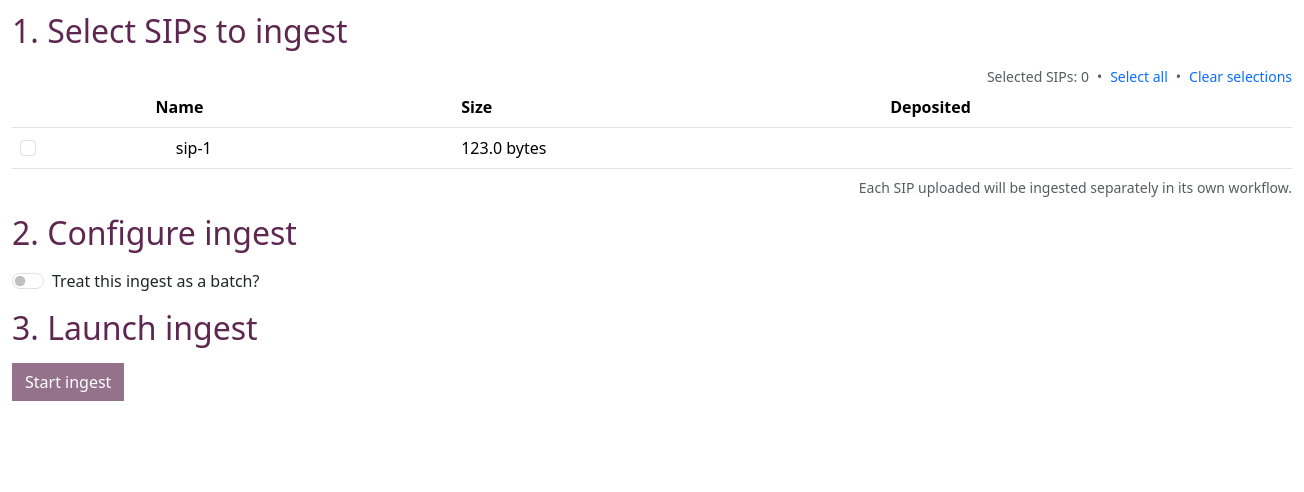
Test: SIPUploadSource.vue › shows an error when ingest fails
Click the checkbox with id "cb-sip-1" at [28, 148], box [20,140,36,156]
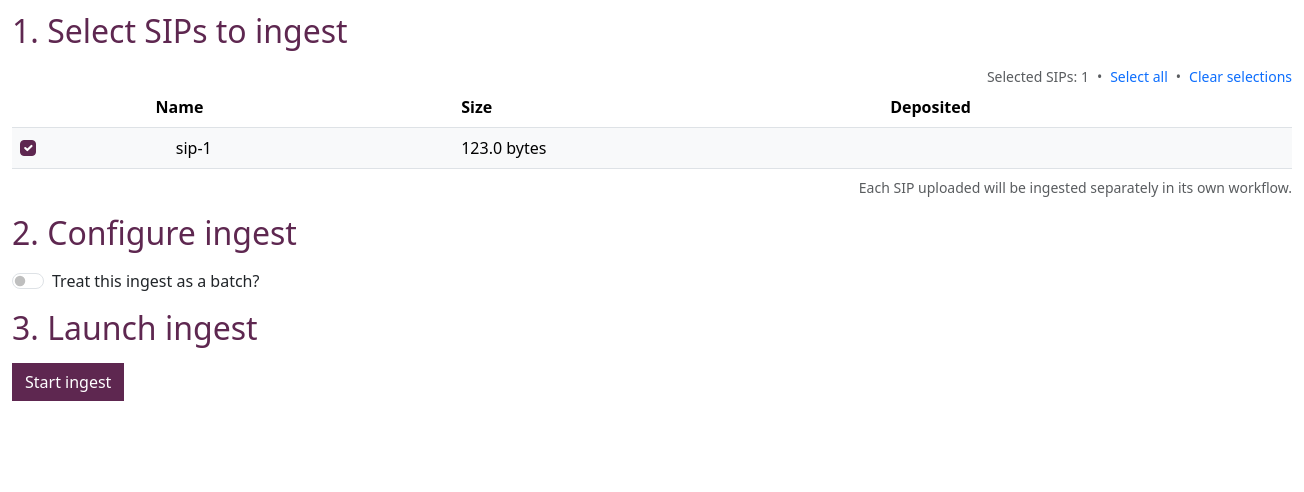
Click the button "Start ingest" at [68, 382], box [12,363,124,401]
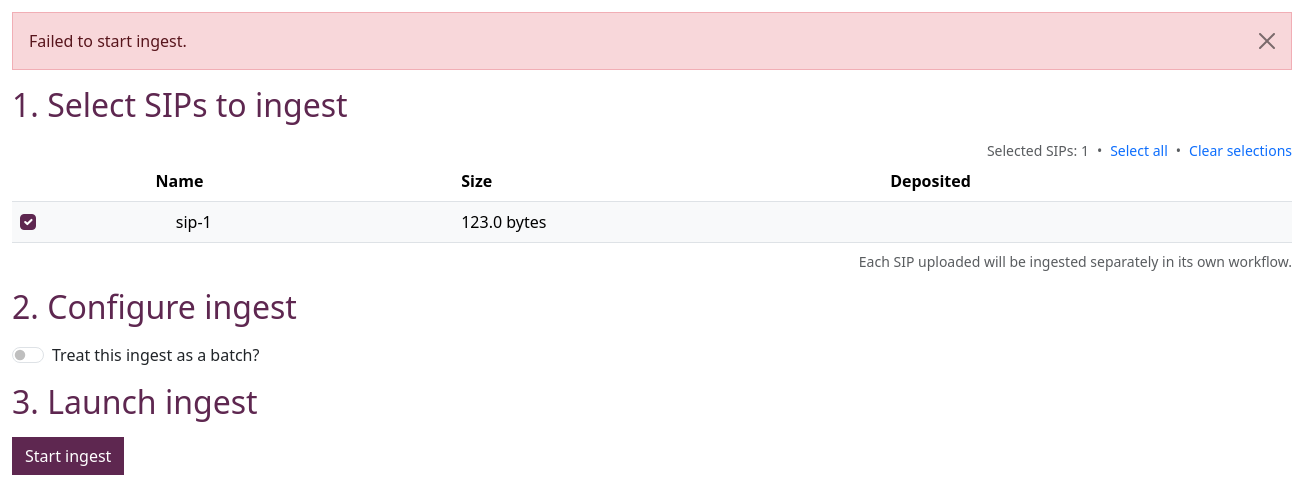
expect the text "Failed to start ingest." is shown: met, box [12,12,1292,70]
